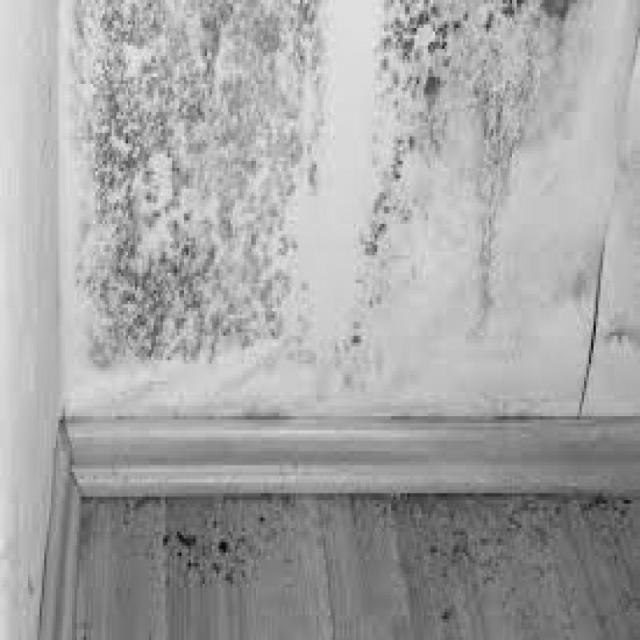stain marks: (58, 0, 640, 447)
